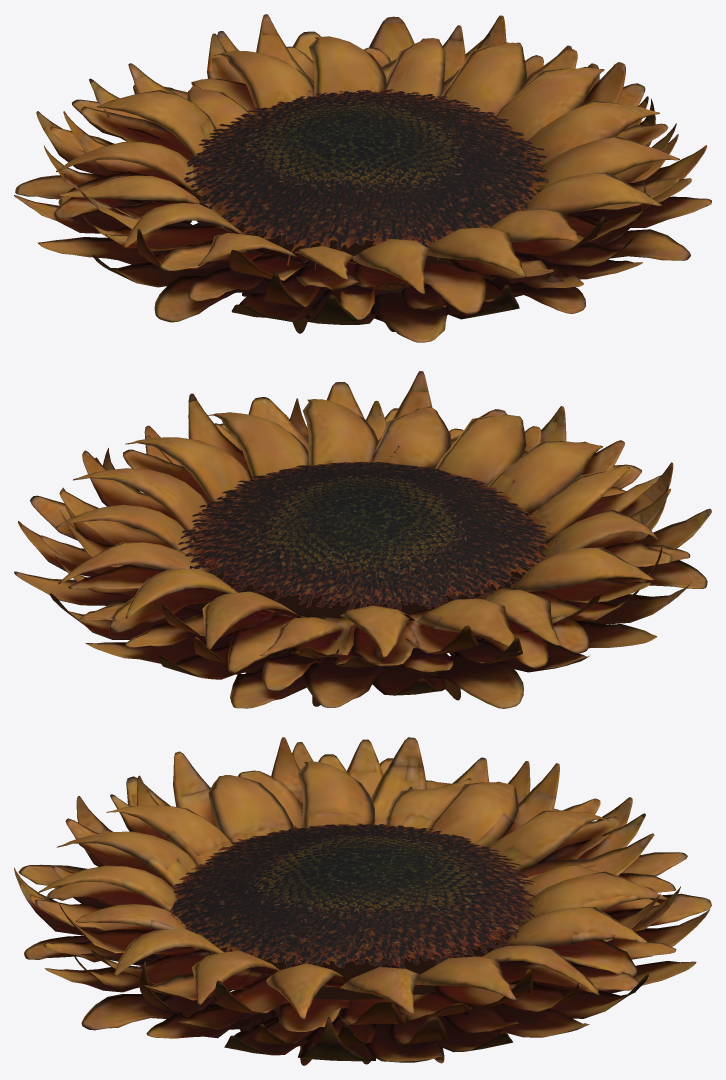
File: sunflower.glb
3 views of the same model, one above another, from view 1: azimuth 30°, elevation 25°; view 2: azimuth 150°, elevation 25°; view 3: azimuth 270°, elevation 25° (orthographic).
Parts seen in each view (by area): view 1: Cylinder867; view 2: Cylinder867; view 3: Cylinder867.
Part boxes in pixels (x1,y1,x2,y2): Cylinder867: [14, 14, 711, 342]; Cylinder867: [14, 371, 711, 708]; Cylinder867: [14, 737, 711, 1065].
Bounding box in the file's own units: 1.02 × 0.1997 × 0.9934.
2 materials, 2 textured.
